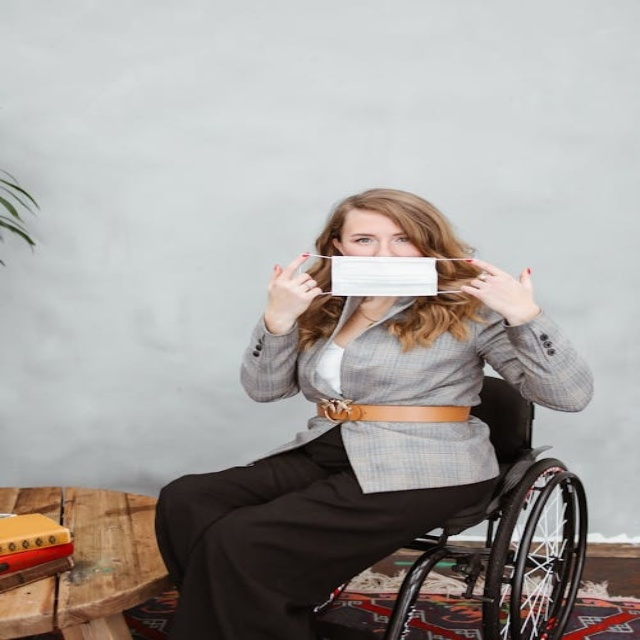Sin_gafas: (353, 237, 375, 244), (393, 237, 411, 243)
Sin_guantes: (452, 253, 547, 327), (251, 251, 330, 333)
